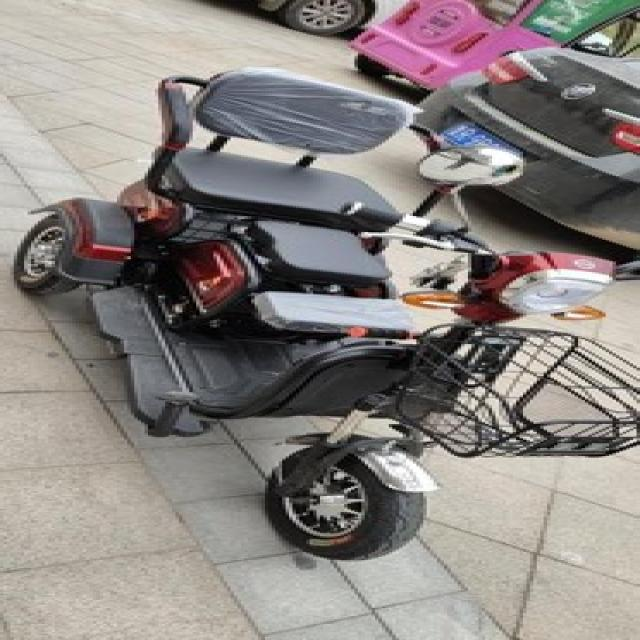car: (409, 40, 636, 256), (237, 0, 396, 35)
tricycle: (7, 66, 633, 556)
